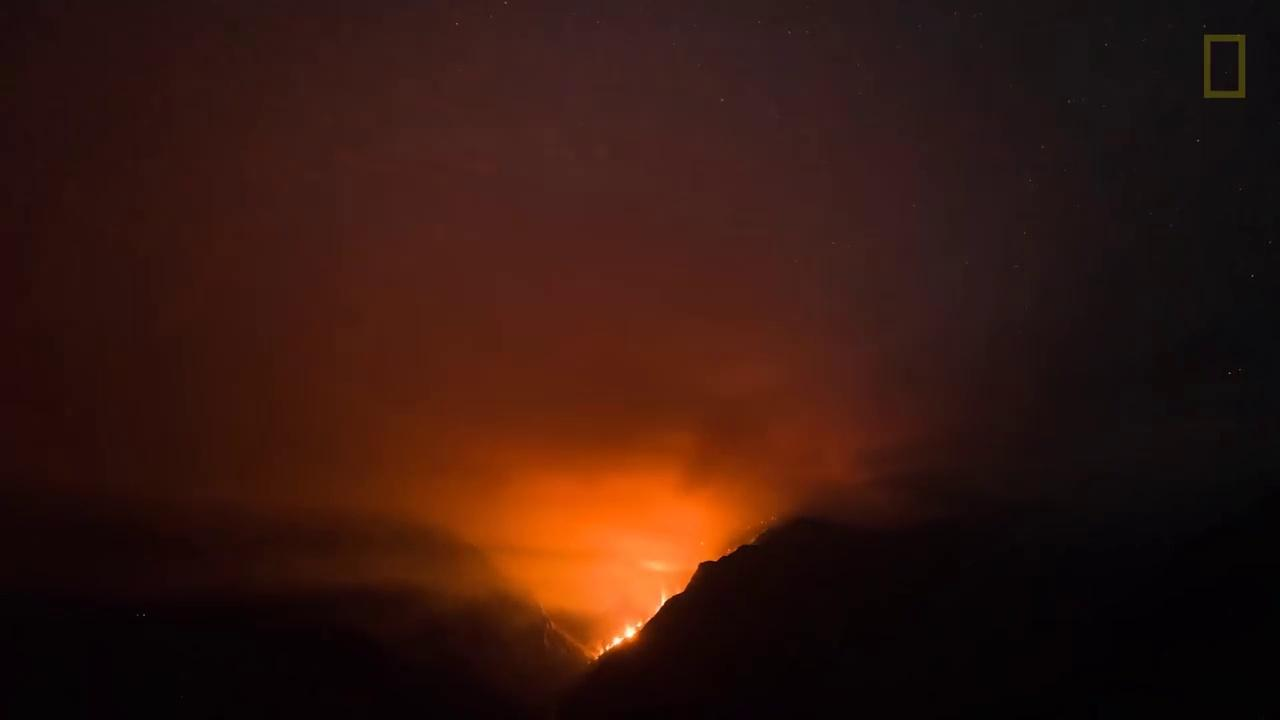Fire: (596, 591, 674, 659)
